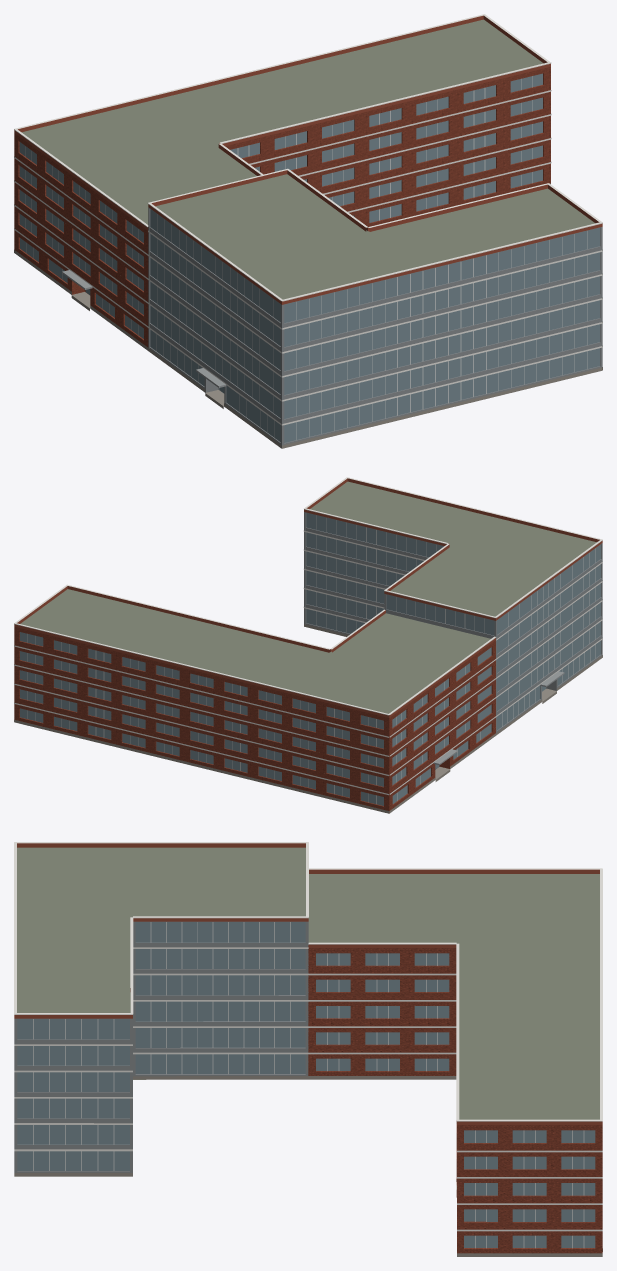
The picture shows the model from 3 angles, top to bottom: view 1: azimuth 30°, elevation 25°; view 2: azimuth 150°, elevation 25°; view 3: azimuth 270°, elevation 25°; orthographic projection. The views are drawn at different scales.
Parts seen in each view (by area): view 1: education__glass, education__roof, education__wall, education__trim, education__spandrel, education__parapet, education__frame, education__wall2, education__base; view 2: education__roof, education__glass, education__wall, education__trim, education__parapet, education__spandrel, education__frame, education__wall2, education__base; view 3: education__roof, education__glass, education__wall, education__trim, education__spandrel, education__parapet, education__wall2, education__frame, education__base.
Boxes of the visible parts, x1,y1,x2,y2 form: education__glass: (19,73,599,442); education__roof: (22,19,594,348); education__wall: (14,67,550,347); education__trim: (14,14,602,425); education__spandrel: (149,228,600,444); education__parapet: (14,15,602,304); education__frame: (25,76,587,439); education__wall2: (148,207,602,448); education__base: (14,183,602,448); education__roof: (20,481,596,713); education__glass: (20,513,600,805); education__wall: (14,627,495,813); education__trim: (14,477,602,795); education__parapet: (14,478,602,717); education__spandrel: (305,528,601,731); education__frame: (27,515,595,804); education__wall2: (304,512,602,732); education__base: (14,624,602,813); education__roof: (17,847,599,1189); education__glass: (17,922,595,1247); education__wall: (308,948,602,1253); education__trim: (14,842,602,1231); education__spandrel: (17,943,305,1172); education__parapet: (14,843,602,1124); education__wall2: (14,921,308,1172); education__frame: (33,922,584,1248); education__base: (14,1076,602,1256).
Size of the model in its own units: 75.18 by 22.6 by 73.
11 materials, 1 textured.
